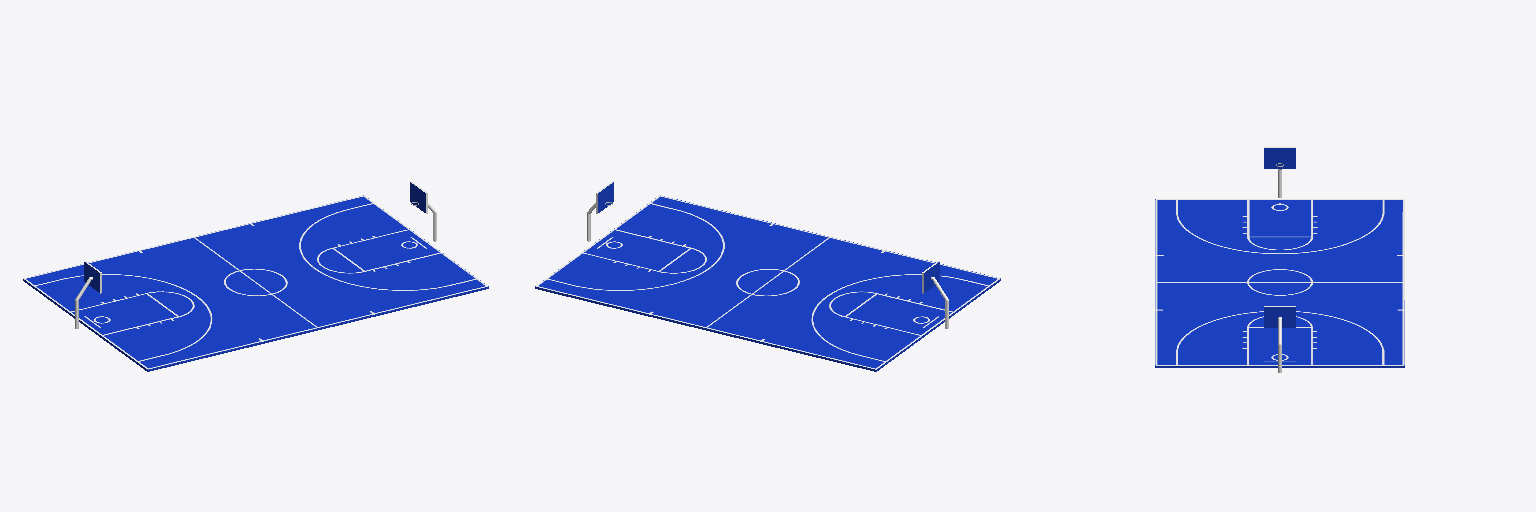
3 renders of one model, left to right at view 1: azimuth 30°, elevation 25°; view 2: azimuth 150°, elevation 25°; view 3: azimuth 270°, elevation 25°, orthographic.
Visible parts, largest first — view 1: Cube, Cilindro; view 2: Cube, Cilindro; view 3: Cube, Cilindro.
Part boxes in pixels (x1,y1,x2,y2): Cube: (23,195,488,371); Cilindro: (75,181,436,328); Cube: (535,195,1000,371); Cilindro: (587,181,948,328); Cube: (1155,199,1404,367); Cilindro: (1264,147,1295,372).
Bounding box in the file's own units: 21.18 × 3.22 × 12.67.
2 materials, 1 textured.